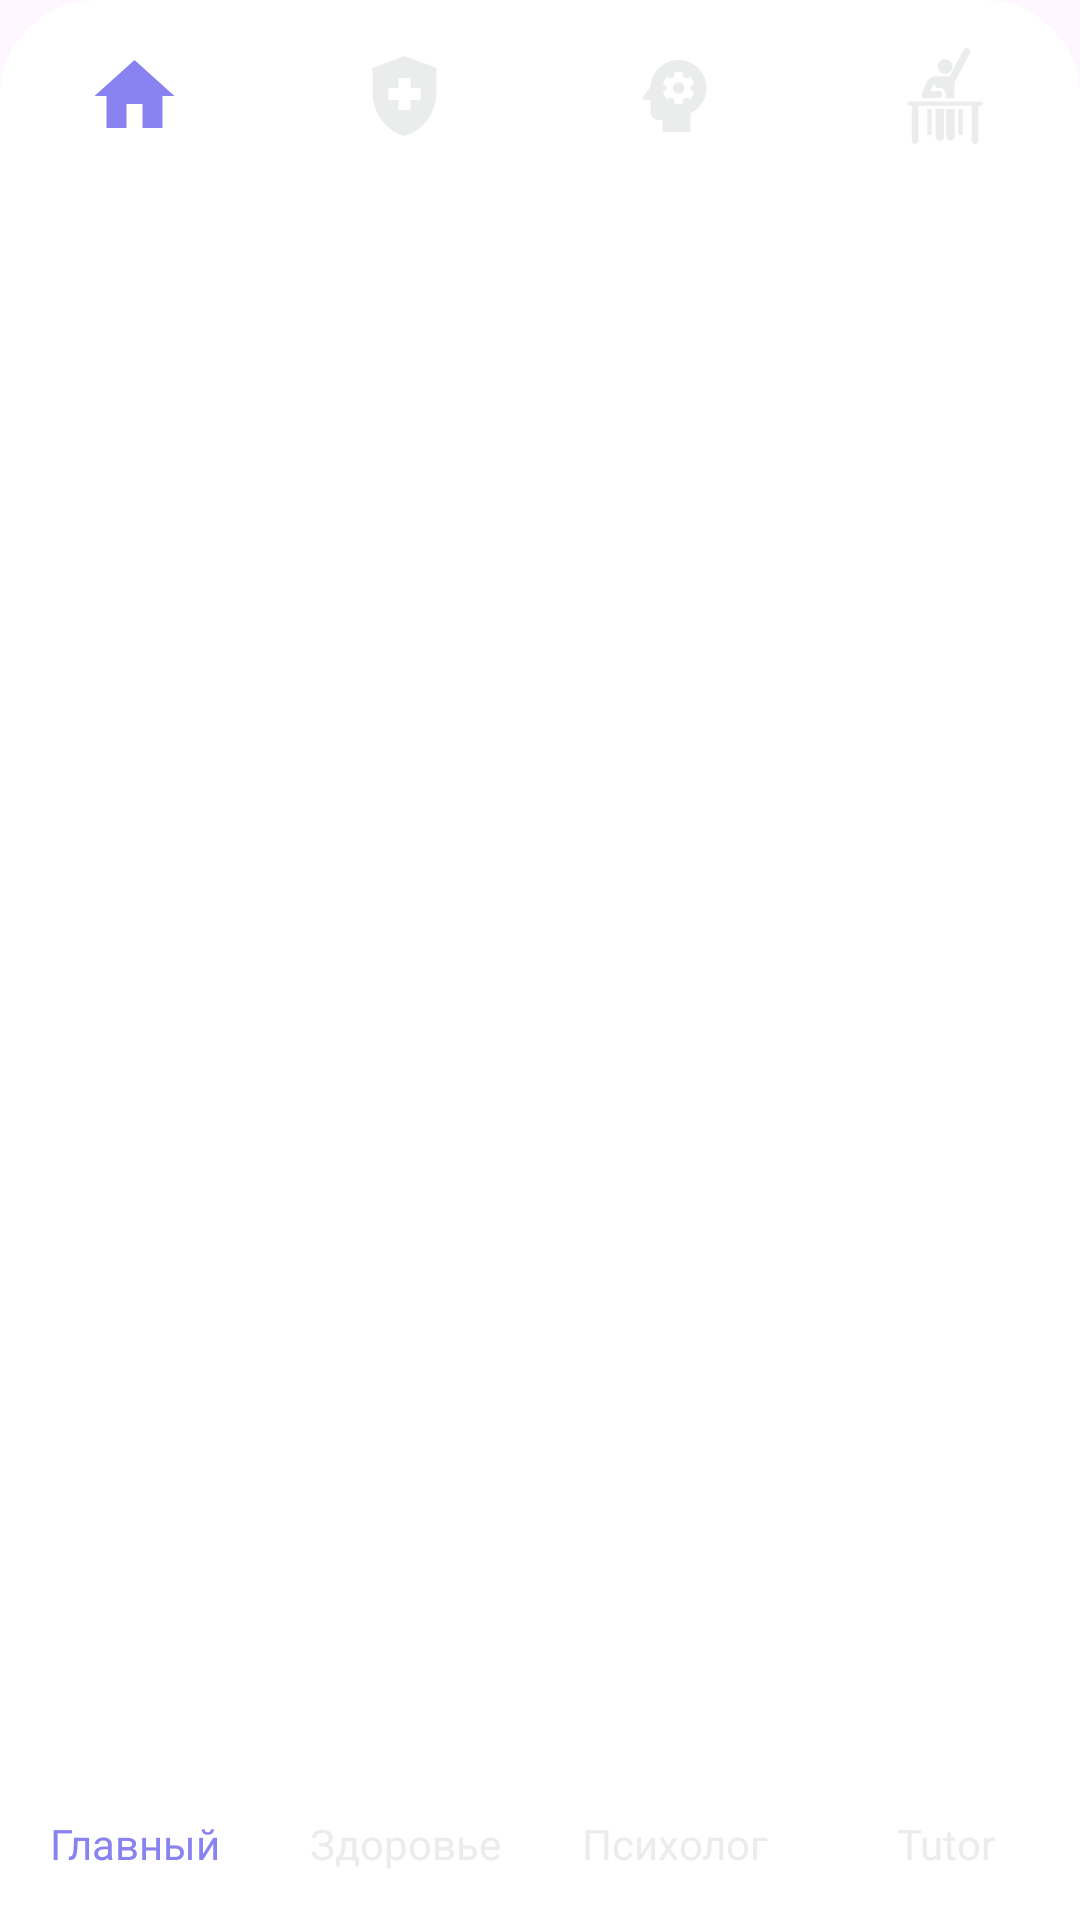

Icons on this 1080 × 1920 Android screen, each with its box as region(x1, y1, x2, y2):
home clicked: region(95, 60, 174, 128)
